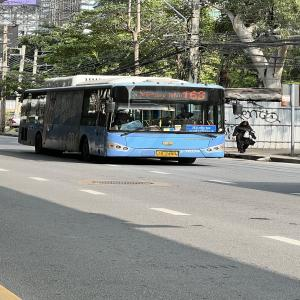BMTA-bus: (17, 75, 226, 164)
Bus Line Number: (181, 89, 208, 100)
Bus Side Number: (179, 150, 201, 154)
Destination Sign: (187, 125, 216, 132)
